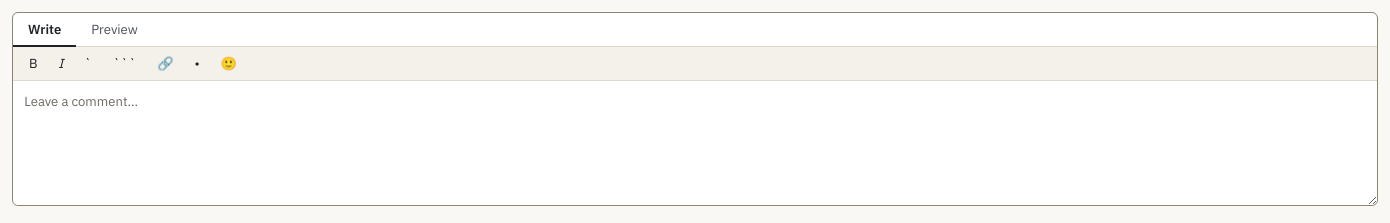
Test case: CommentEditor — emoji picker popover › clicking the emoji button opens the picker popover (aria-expanded=true)
Click the button named "insert emoji" at point(229, 64), box [212,51,245,76]
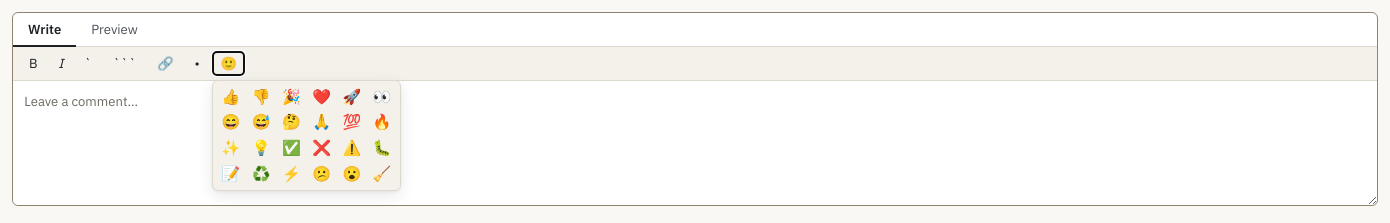
Expected: the element with test id "emoji-picker" is shown, [212,80,401,190]
Expected: the button named "insert emoji" is expanded, [212,51,245,76]
